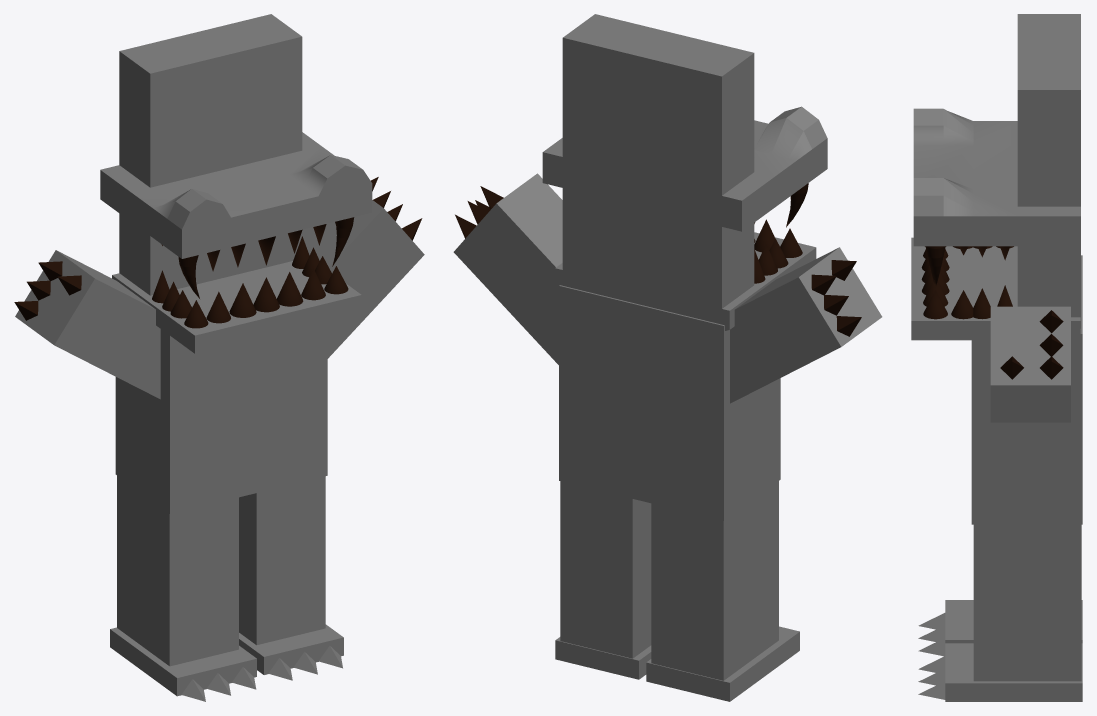
Rendered from tyrite.obj.
3 renders of one model, left to right at view 1: azimuth 30°, elevation 25°; view 2: azimuth 150°, elevation 25°; view 3: azimuth 270°, elevation 25°, orthographic. The views are drawn at different scales.
Visible parts, largest first — view 1: pCube1, pCube3, pCube6, pCube4, pCube7, pCube2, pCube8, pCube6 pCube5, pCube4 pCube5; view 2: pCube1, pCube3, pCube6, pCube4, pCube7, pCube8, pCube6 pCube5, pCube2, pCube4 pCube5; view 3: pCube1, pCube4, pCube3, pCube8, pCube2, pCube4 pCube5, pCube6 pCube5, pCone2, pCone9, pCone24, pCone25, pPyramid10 (+6 smaller).
Part boxes in pixels (x1,y1,x2,y2): pCube1: (100, 14, 372, 295); pCube3: (115, 329, 327, 513); pCube6: (117, 475, 238, 666); pCube4: (239, 476, 325, 645); pCube7: (15, 250, 160, 399); pCube2: (112, 261, 361, 360); pCube8: (302, 200, 424, 358); pCube6 pCube5: (110, 627, 256, 696); pCube4 pCube5: (239, 624, 343, 674); pCube1: (542, 14, 827, 320); pCube3: (559, 285, 780, 520); pCube6: (651, 481, 778, 680); pCube4: (560, 481, 651, 658); pCube7: (730, 247, 882, 403); pCube8: (453, 173, 562, 364); pCube6 pCube5: (646, 626, 799, 701); pCube2: (555, 232, 816, 330); pCube4 pCube5: (555, 637, 651, 679); pCube1: (913, 14, 1080, 328); pCube4: (973, 524, 1081, 681); pCube3: (971, 255, 1082, 524); pCube8: (990, 306, 1070, 422); pCube2: (911, 237, 1080, 340); pCube4 pCube5: (945, 643, 1082, 701); pCube6 pCube5: (945, 600, 1082, 643); pCone2: (925, 246, 945, 287); pCone9: (923, 290, 947, 319); pCone24: (951, 290, 973, 319); pCone25: (973, 288, 990, 319); pPyramid10: (1039, 334, 1063, 356).
Bounding box in the file's own units: 11.46 × 16.74 × 4.27.
